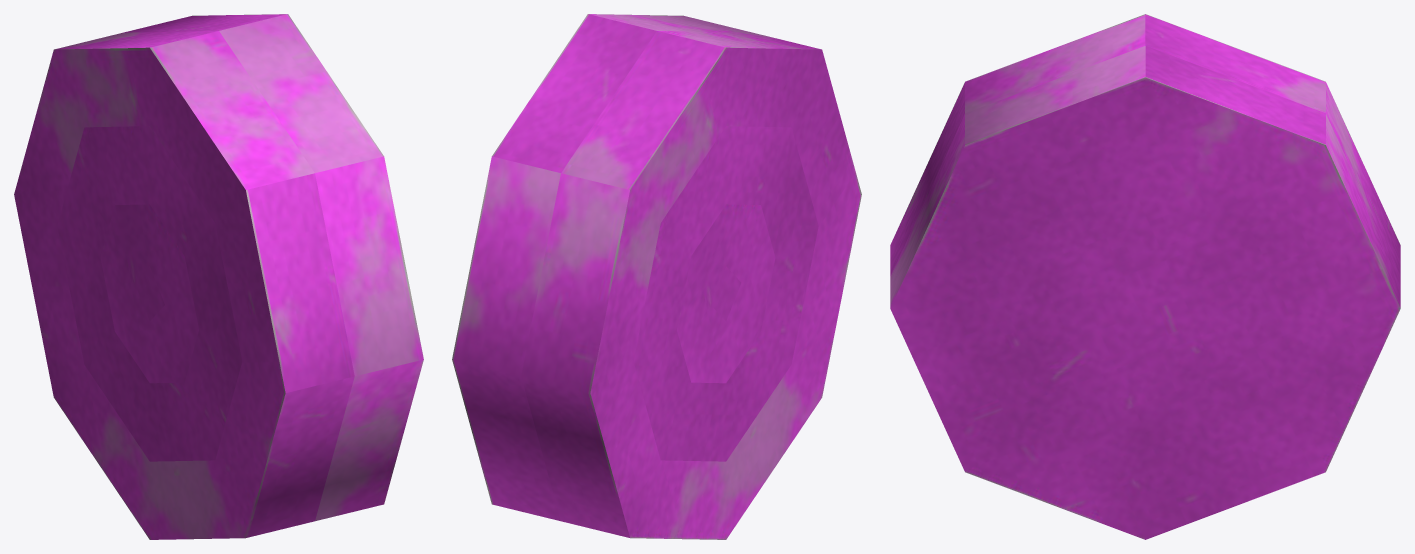
The model's file is target-large.glb.
The picture shows the model from 3 angles, left to right: view 1: azimuth 30°, elevation 25°; view 2: azimuth 150°, elevation 25°; view 3: azimuth 270°, elevation 25°; orthographic projection. The views are drawn at different scales.
Visible parts, largest first — view 1: target-large; view 2: target-large; view 3: target-large.
Boxes of the visible parts, x1=… form: target-large: x1=14, y1=14, x2=423, y2=539; target-large: x1=452, y1=14, x2=861, y2=539; target-large: x1=890, y1=14, x2=1400, y2=539.
Bounding box in the file's own units: 0.1 × 0.34 × 0.34.
1 material, 1 textured.
